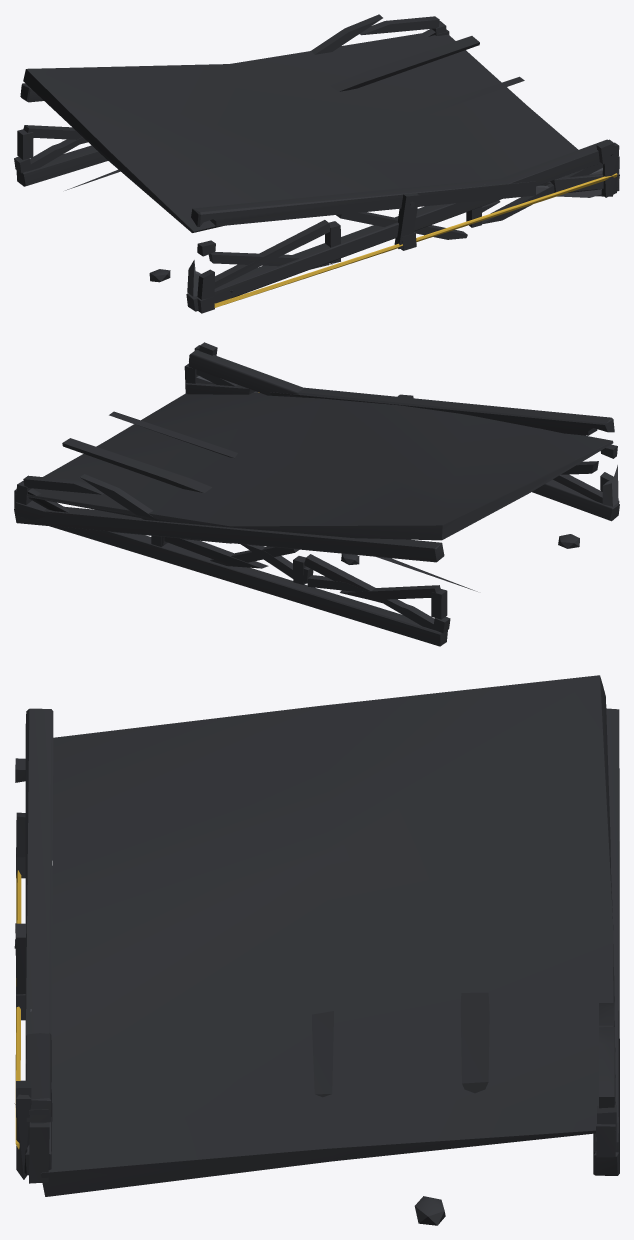
Rendered from nvg_deb_cable_bridge_a.glb.
3 renders of one model, top to bottom at view 1: azimuth 30°, elevation 25°; view 2: azimuth 150°, elevation 25°; view 3: azimuth 270°, elevation 25°, orthographic. The views are drawn at different scales.
Parts seen in each view (by area): view 1: frag_01, husk, frag_03, frag_02, frag_04; view 2: frag_01, husk, frag_03, frag_02, frag_04; view 3: frag_01, frag_03, husk, frag_04.
Boxes of the visible parts, x1=… form: frag_01: x1=23, y1=33, x2=612, y2=232; husk: x1=14, y1=14, x2=617, y2=313; frag_03: x1=20, y1=83, x2=619, y2=248; frag_02: x1=17, y1=125, x2=340, y2=299; frag_04: x1=422, y1=29, x2=619, y2=227; frag_01: x1=15, y1=393, x2=613, y2=540; husk: x1=15, y1=342, x2=619, y2=646; frag_03: x1=14, y1=383, x2=614, y2=568; frag_02: x1=293, y1=444, x2=618, y2=619; frag_04: x1=14, y1=345, x2=326, y2=546; frag_01: x1=40, y1=675, x2=615, y2=1196; frag_03: x1=14, y1=708, x2=619, y2=1175; husk: x1=15, y1=847, x2=619, y2=1225; frag_04: x1=14, y1=1009, x2=615, y2=1183.
Size of the model in its own units: 1.69 by 0.4276 by 1.19.
